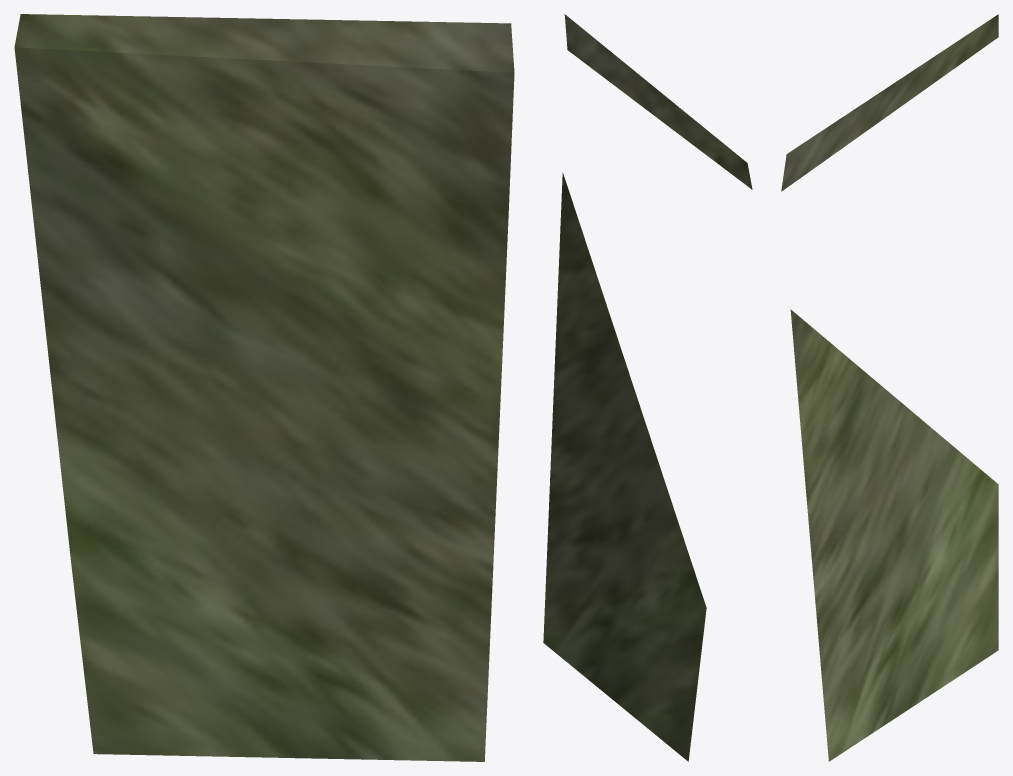
The picture shows the model from 3 angles, left to right: view 1: azimuth 30°, elevation 25°; view 2: azimuth 150°, elevation 25°; view 3: azimuth 270°, elevation 25°; orthographic projection. The views are drawn at different scales.
Size of the model in its own units: 1.48 by 2.95 by 0.9567.
Materials: 2 (2 with a texture image).
